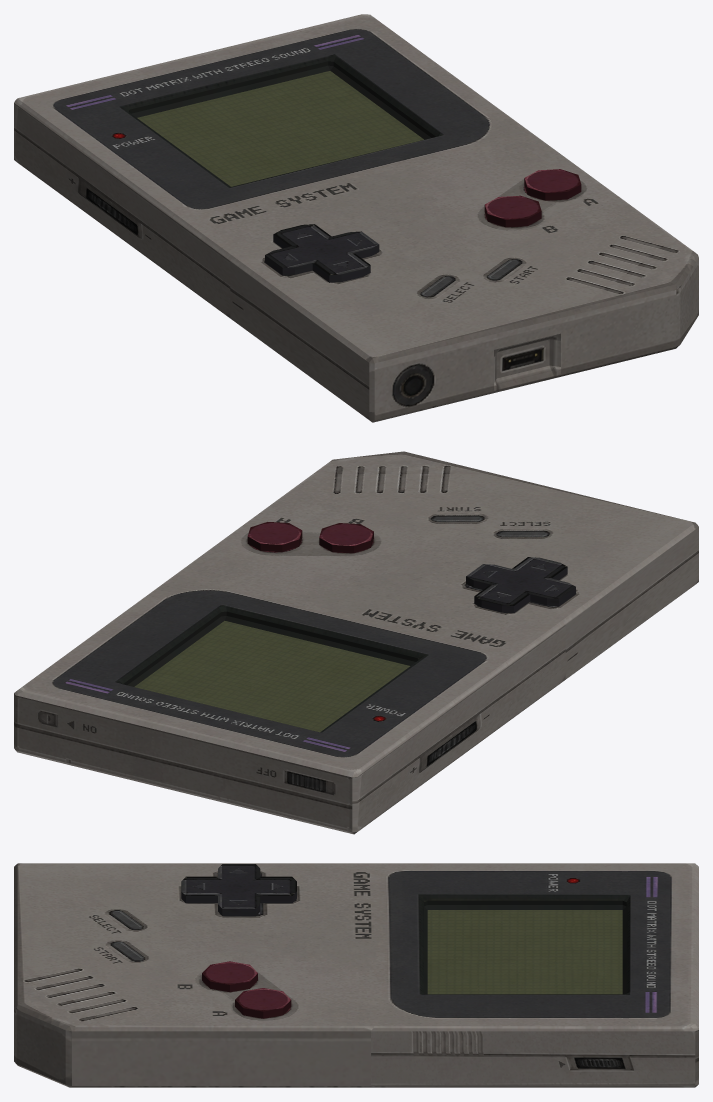
Rendered from retro_pocket_console_psx_style.glb.
3 views of the same model, one above another, from view 1: azimuth 30°, elevation 25°; view 2: azimuth 150°, elevation 25°; view 3: azimuth 270°, elevation 25° (orthographic). The views are drawn at different scales.
Visible parts, largest first — view 1: Cube_0, Cube.001_1; view 2: Cube_0, Cube.001_1; view 3: Cube_0, Cube.001_1.
Part boxes in pixels (<box>): Cube_0: <box>14,14,698,422</box>; Cube.001_1: <box>265,169,581,282</box>; Cube_0: <box>14,451,698,834</box>; Cube.001_1: <box>247,522,575,613</box>; Cube_0: <box>14,863,698,1087</box>; Cube.001_1: <box>181,864,296,1018</box>.
Size of the model in its own units: 2.16 by 0.4173 by 3.77.
1 material, 1 textured.
